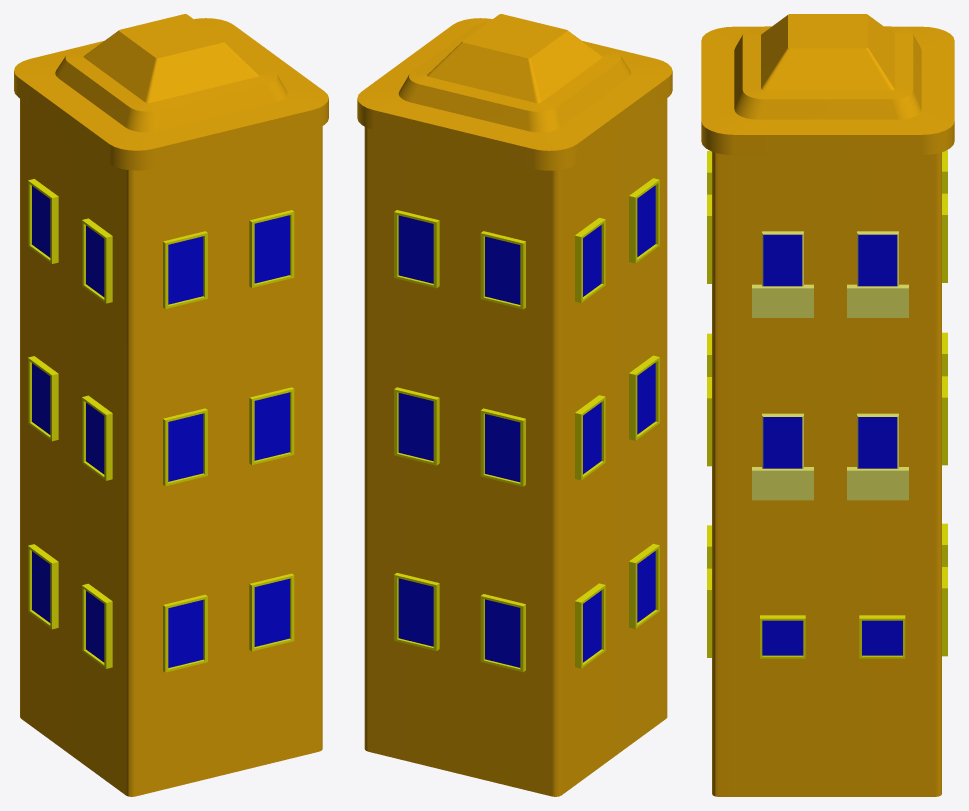
The picture shows the model from 3 angles, left to right: view 1: azimuth 30°, elevation 25°; view 2: azimuth 150°, elevation 25°; view 3: azimuth 270°, elevation 25°; orthographic projection. The views are drawn at different scales.
Visible parts, largest first — view 1: polySurface67, polySurface69, polySurface73, polySurface70, polySurface147, polySurface72, polySurface71, polySurface146, polySurface139, polySurface148, polySurface138, polySurface140 (+2 smaller); view 2: polySurface67, polySurface69, polySurface142, polySurface143, polySurface144, polySurface150, polySurface151, polySurface145, polySurface139, polySurface140, polySurface138, polySurface141 (+2 smaller); view 3: polySurface67, polySurface69, pCube56, pCube141, pCube147, pCube148, polySurface137, pCube55, pCube142, polySurface74, pCube145, pCube146 (+3 smaller).
Boxes of the visible parts, x1,y1,x2,y2 form: polySurface67: (20,99,322,796); polySurface69: (14,14,328,170); polySurface73: (249,573,294,651); polySurface70: (249,387,294,464); polySurface147: (249,210,294,287); polySurface72: (163,594,207,672); polySurface71: (163,408,207,486); polySurface146: (163,231,207,308); polySurface139: (82,395,112,480); polySurface148: (82,218,112,303); polySurface138: (28,356,58,441); polySurface140: (28,544,58,629); polySurface67: (364,98,667,796); polySurface69: (357,14,672,170); polySurface142: (480,408,525,486); polySurface143: (394,387,439,465); polySurface144: (480,594,525,672); polySurface150: (480,231,525,309); polySurface151: (394,210,439,288); polySurface145: (394,573,439,650); polySurface139: (629,355,659,440); polySurface140: (575,583,605,668); polySurface138: (575,395,605,480); polySurface141: (629,543,659,628); polySurface67: (712,151,941,796); polySurface69: (701,14,954,155); pCube56: (762,413,803,468); pCube141: (857,413,898,468); pCube147: (857,231,898,286); pCube148: (762,231,803,286); polySurface137: (859,615,905,658); pCube55: (752,467,813,500); pCube142: (847,467,908,500); polySurface74: (760,615,805,658); pCube145: (847,284,908,317); pCube146: (752,284,813,317).
Size of the model in its own units: 18.42 by 56.91 by 18.22.
